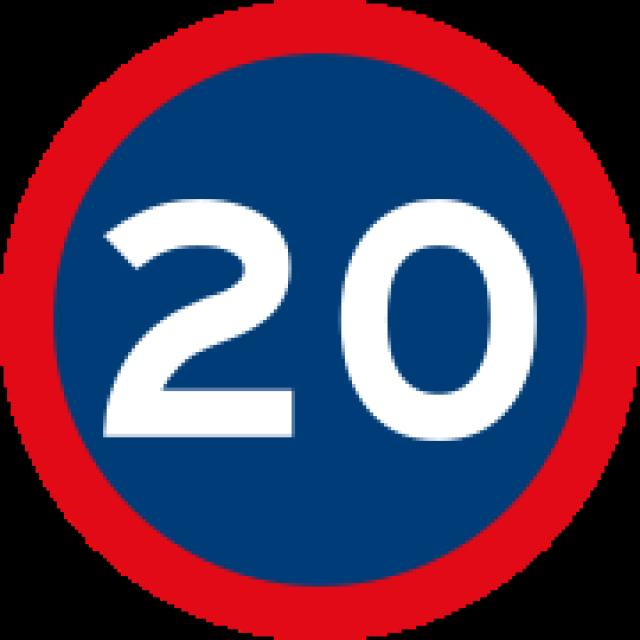Speed Limit -20-: (99, 190, 545, 446)
